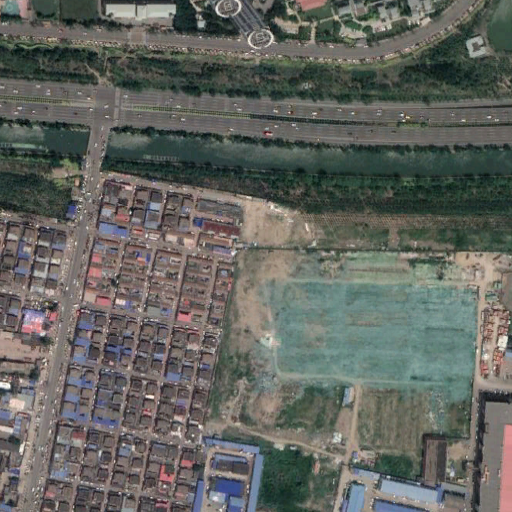cw: (211, 247, 474, 436)
